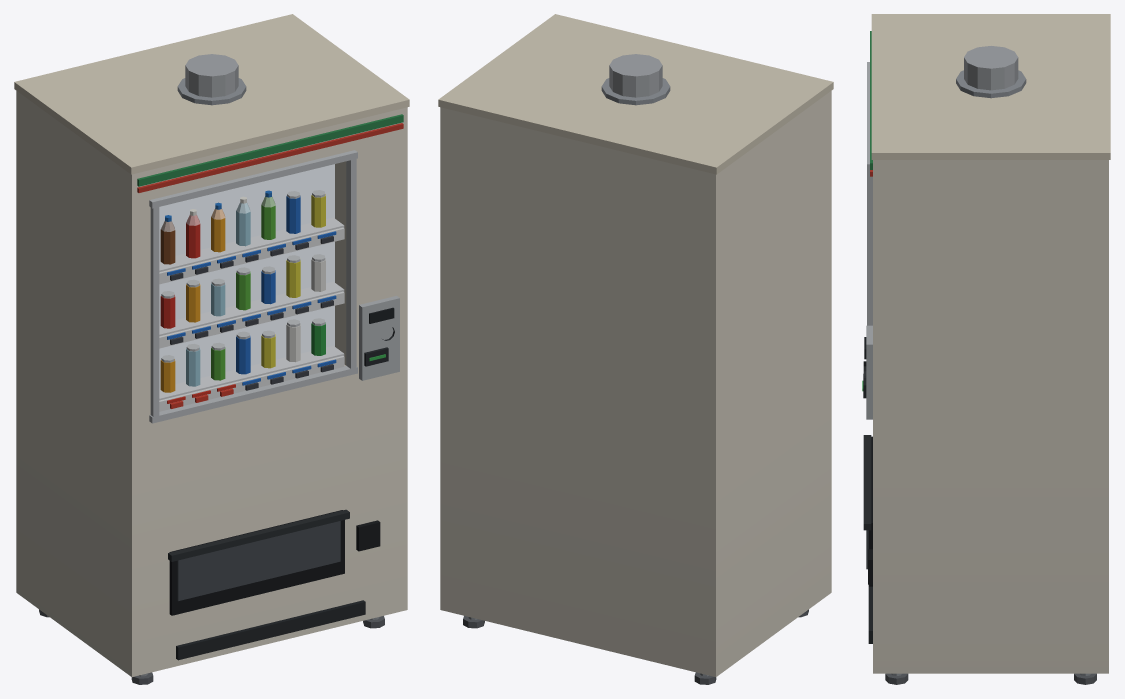
The model's file is vending_white.glb.
The picture shows the model from 3 angles, left to right: view 1: azimuth 30°, elevation 25°; view 2: azimuth 150°, elevation 25°; view 3: azimuth 270°, elevation 25°; orthographic projection. The views are drawn at different scales.
Parts seen in each view (by area): view 1: vending_white; view 2: vending_white; view 3: vending_white.
Part boxes in pixels (left/top/right/bottom): vending_white: left=14, top=14, right=409, bottom=684; vending_white: left=438, top=14, right=833, bottom=684; vending_white: left=862, top=14, right=1110, bottom=684.
Bounding box in the file's own units: 1.03 × 1.96 × 0.779.
